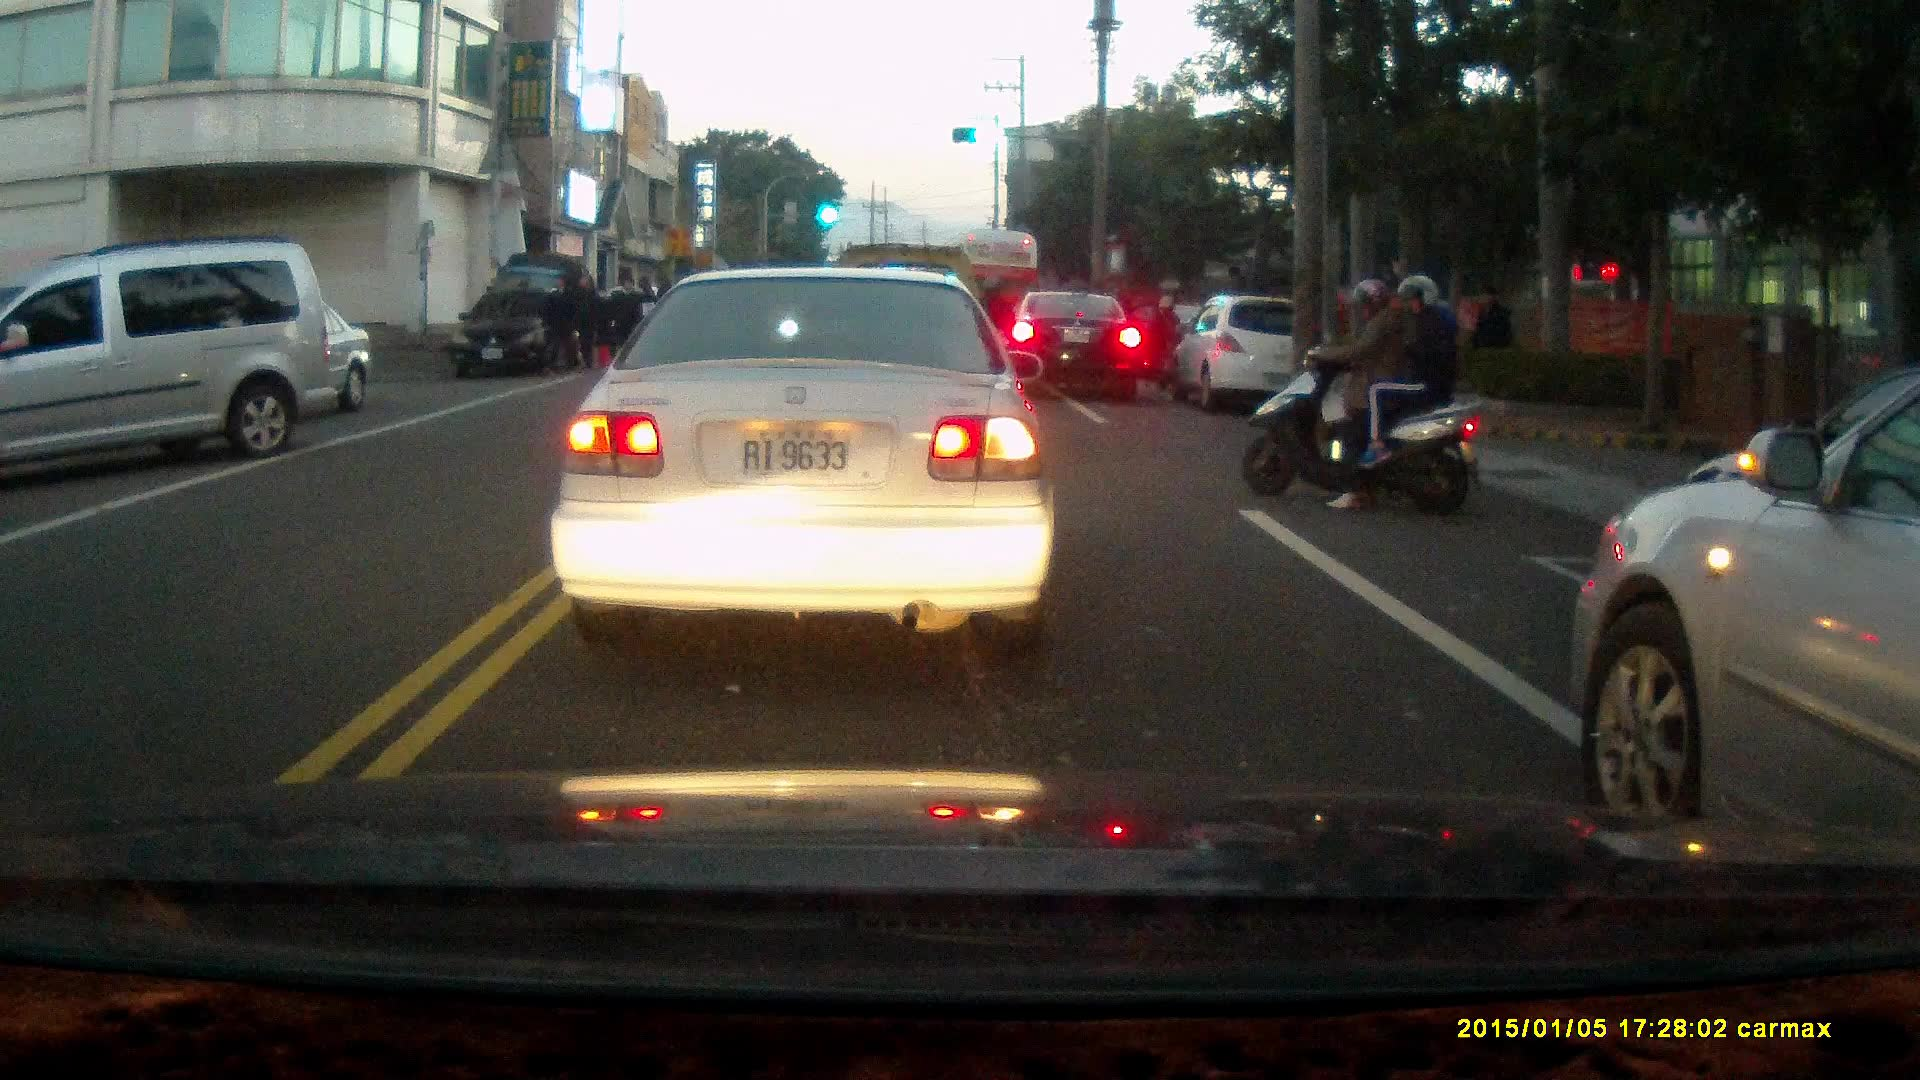pedestrian: (1468, 281, 1514, 382), (543, 269, 581, 376), (564, 271, 597, 377), (606, 273, 638, 365)
rider: (1231, 268, 1482, 523), (1149, 289, 1187, 390)
vehicle: (552, 259, 1060, 672), (1564, 372, 1920, 851), (1, 243, 333, 481), (1181, 294, 1325, 403), (1007, 290, 1145, 401), (446, 283, 588, 381)
